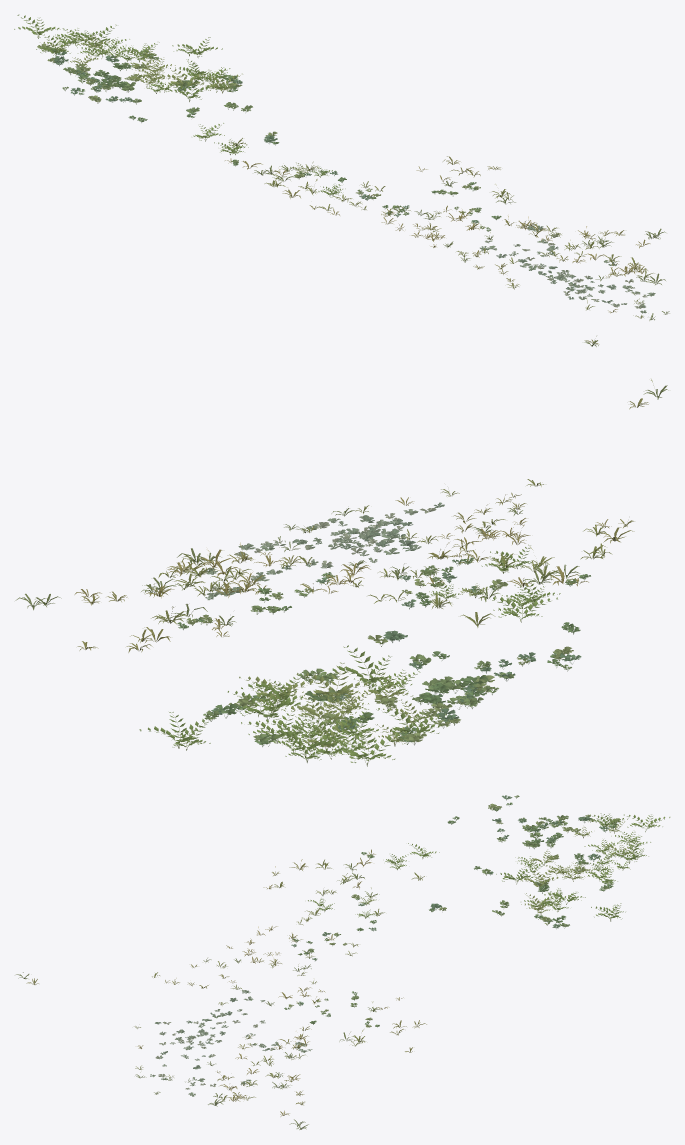
File: woodland-edge.glb
3 views of the same model, one above another, from view 1: azimuth 30°, elevation 25°; view 2: azimuth 150°, elevation 25°; view 3: azimuth 270°, elevation 25° (orthographic). The views are drawn at different scales.
Parts seen in each view (by area): view 1: Two spruce margin; view 2: Two spruce margin; view 3: Two spruce margin.
Part boxes in pixels (box(x1,y1,x2,y2)): Two spruce margin: box(14, 14, 669, 346); Two spruce margin: box(15, 379, 668, 766); Two spruce margin: box(16, 795, 670, 1129).
Size of the model in its own units: 17.79 by 6.13 by 25.26.
